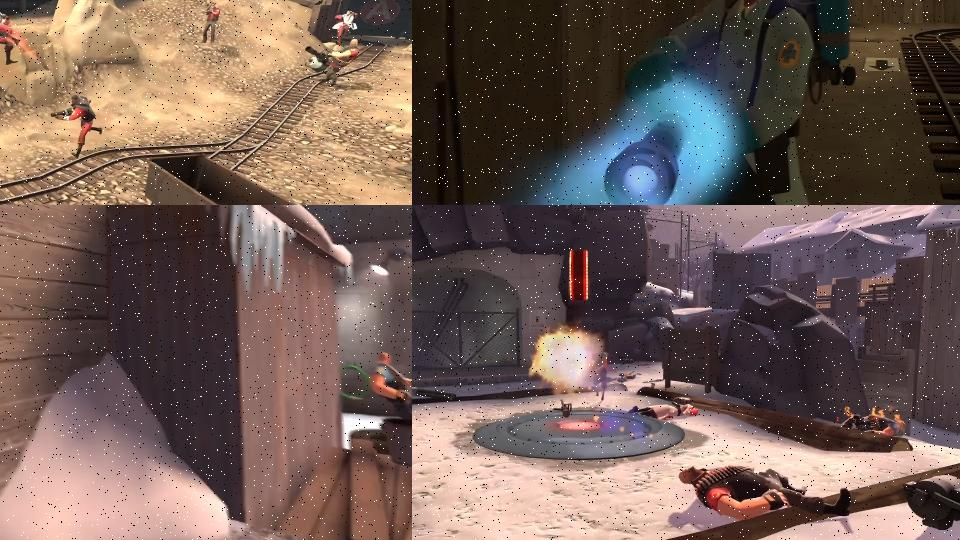Enemy: (600, 0, 859, 205), (676, 460, 850, 519), (50, 92, 105, 159), (848, 405, 923, 452), (368, 352, 412, 430), (303, 39, 360, 89), (626, 400, 701, 419), (589, 342, 610, 405), (0, 12, 21, 66), (199, 2, 221, 45), (331, 10, 359, 42)
